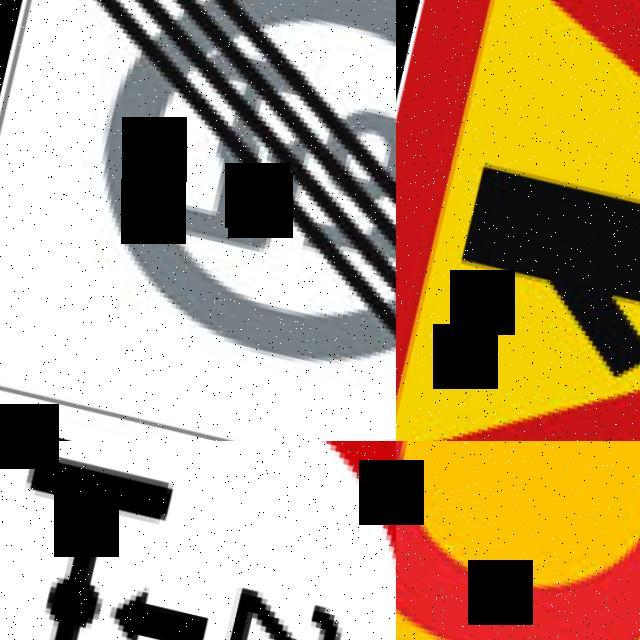111: (0, 0, 396, 441)
166: (396, 0, 640, 441)
82: (396, 441, 640, 640)
Axle weight limit-2ton: (0, 441, 396, 640)
One-way traffic: (0, 441, 396, 640)
